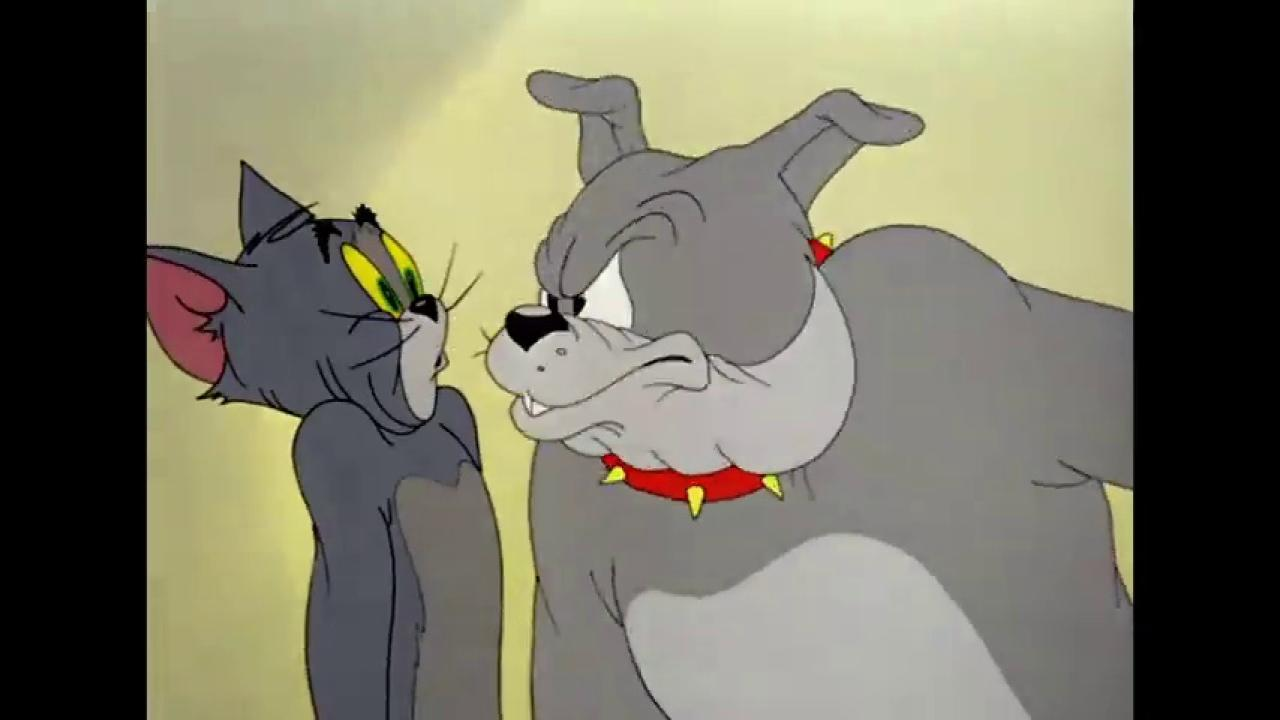Tom: (147, 159, 506, 720)
